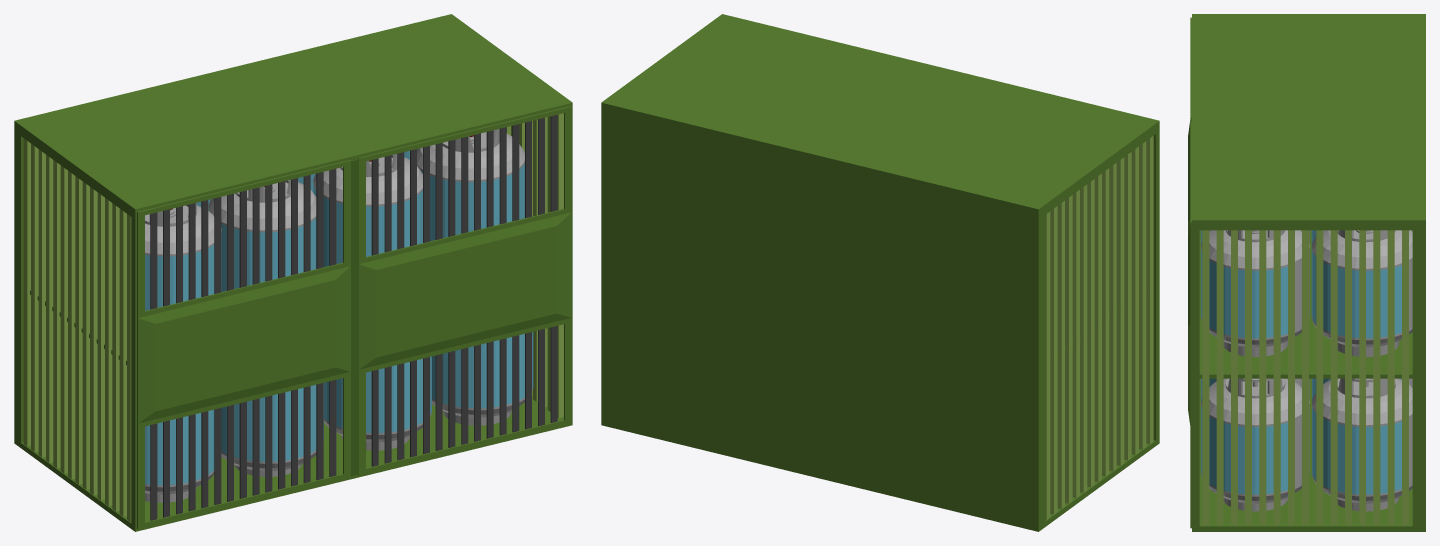
Rendered from Propaine Tank Storage.fbx.
The picture shows the model from 3 angles, left to right: view 1: azimuth 30°, elevation 25°; view 2: azimuth 150°, elevation 25°; view 3: azimuth 270°, elevation 25°; orthographic projection. The views are drawn at different scales.
Visible parts, largest first — view 1: Propaine Tank Storage; view 2: Propaine Tank Storage; view 3: Propaine Tank Storage.
Boxes of the visible parts, box(x1,y1,x2,y2) form: Propaine Tank Storage: box(14, 14, 572, 531); Propaine Tank Storage: box(601, 14, 1159, 531); Propaine Tank Storage: box(1188, 14, 1425, 531).
Size of the model in its own units: 205 by 144 by 99.85.
1 material, 1 textured.
